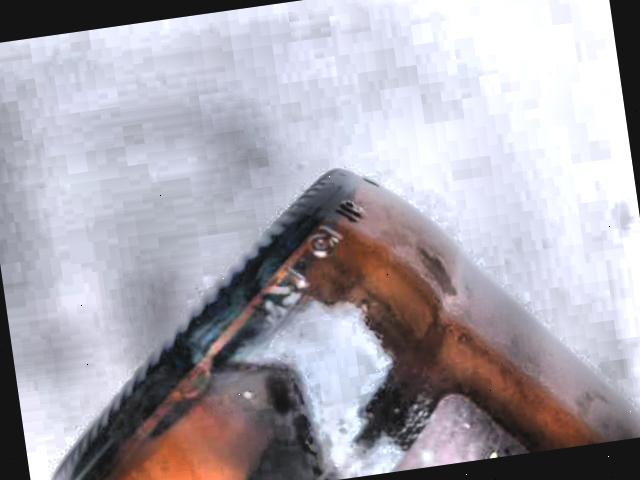Bottles: (0, 121, 640, 480)
